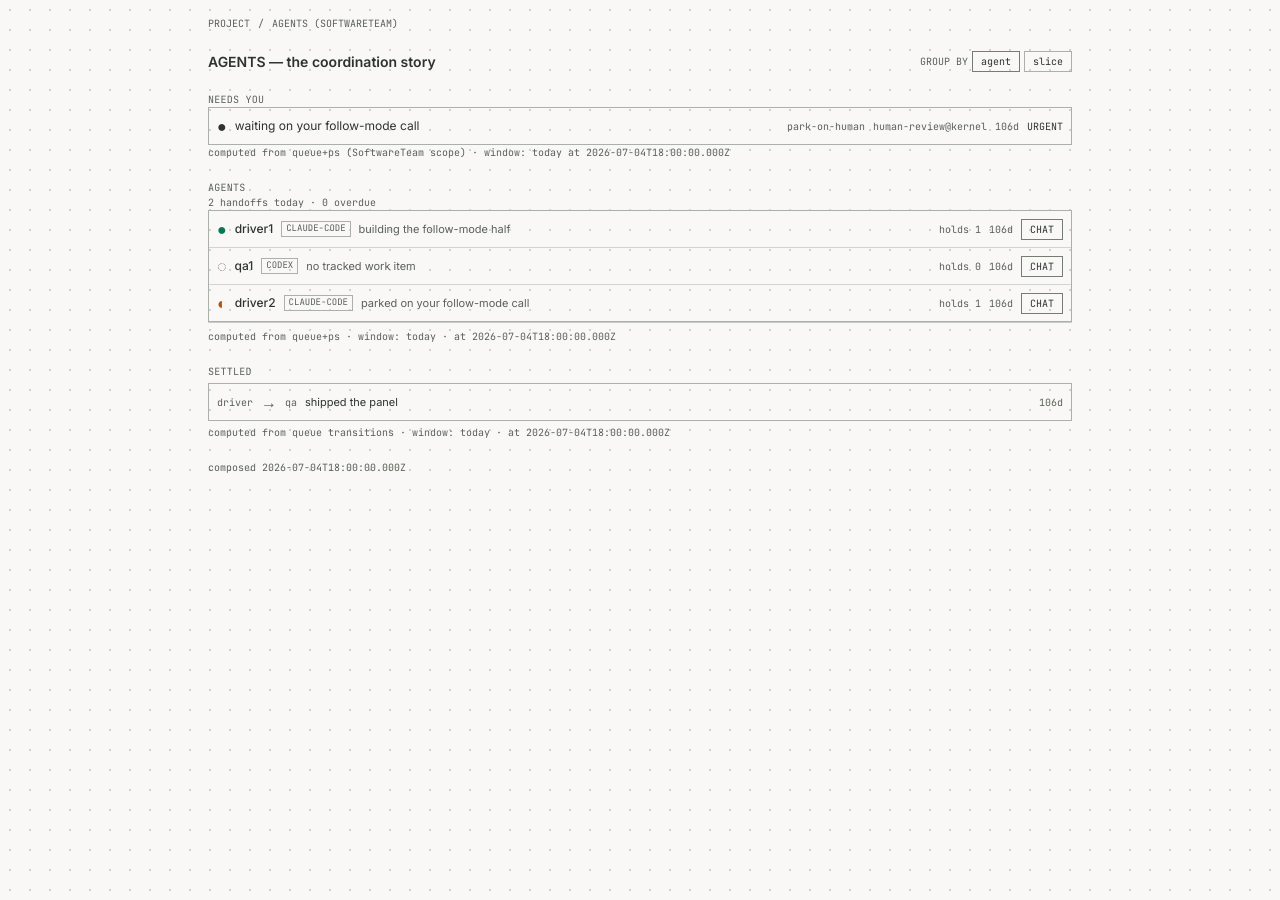
SoftwareTeamAgentsPage — the three bands from the composed root › grouping toggle: by-slice groups rows under each slice they hold work on
The width and height of the screenshot is (1280, 900).
Expected: the element with test id "software-team-agents-page" is shown, [192,0,1088,491]
Step 1. Click the button with test id "software-team-agents-group-slice" → point(1048, 62), box [1024,51,1072,72]
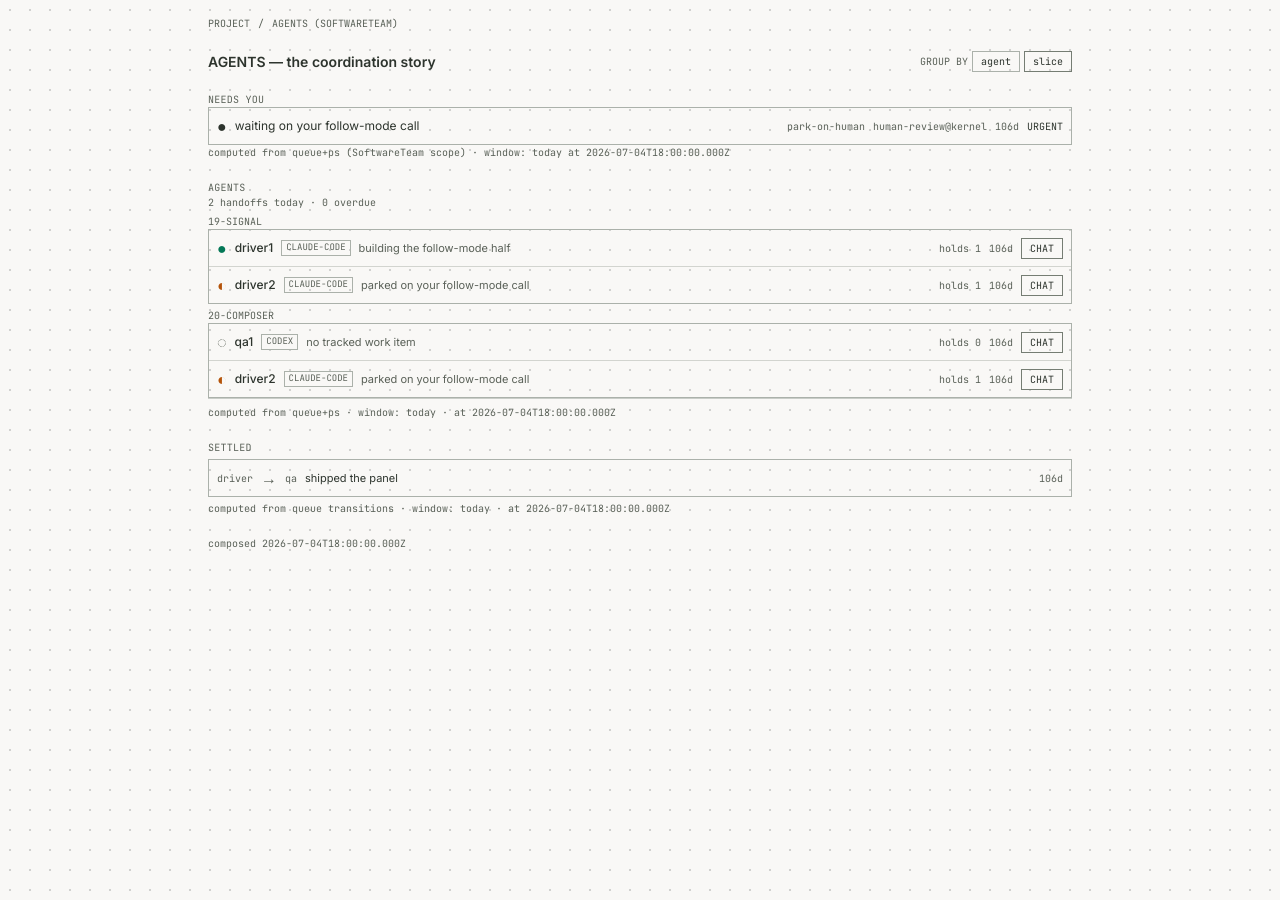
Result: the text "19-signal" is shown at [208,215,262,228]
Result: the text "20-composer" is shown at [208,309,274,322]
